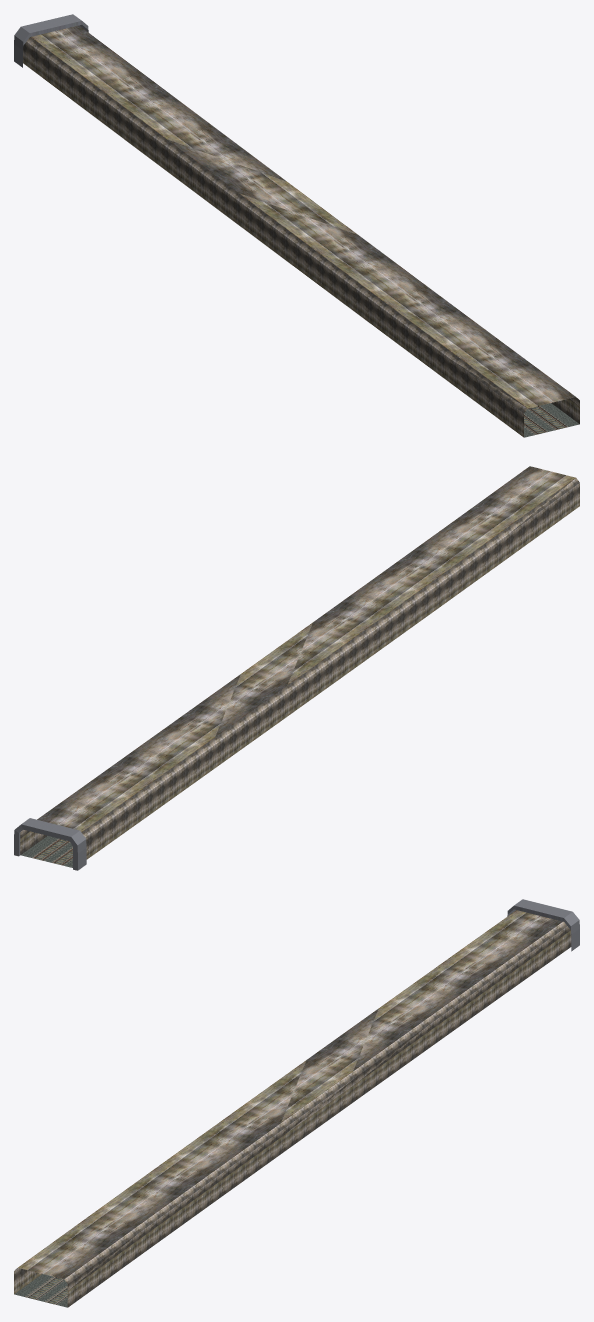
File: southtunnel_03_sfs.obj
The picture shows the model from 3 angles, top to bottom: view 1: azimuth 30°, elevation 25°; view 2: azimuth 150°, elevation 25°; view 3: azimuth 330°, elevation 25°; orthographic projection. The views are drawn at different scales.
Parts seen in each view (by area): view 1: southtunnel_03_SFS; view 2: southtunnel_03_SFS; view 3: southtunnel_03_SFS.
Boxes of the visible parts, <box> form: southtunnel_03_SFS: <box>14,14,579,437</box>; southtunnel_03_SFS: <box>14,466,579,870</box>; southtunnel_03_SFS: <box>14,899,579,1307</box>.
Size of the model in its own units: 13.65 by 6.29 by 177.
Materials: 4 (4 with a texture image).
